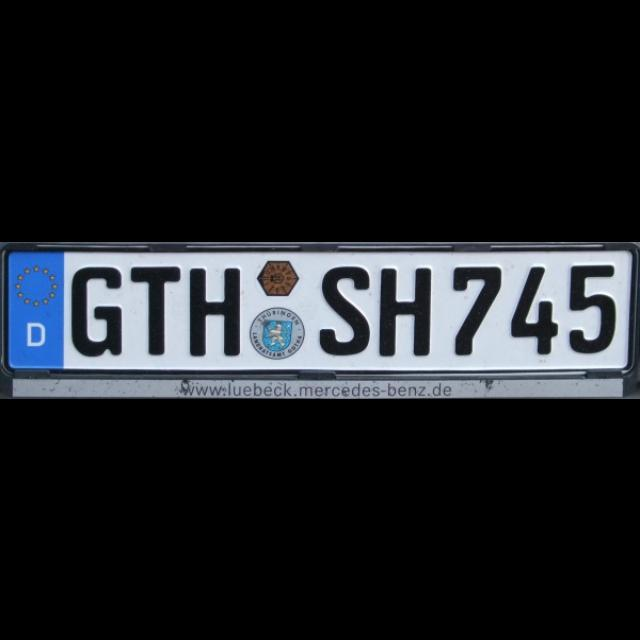license-plates: (6, 245, 635, 372)
